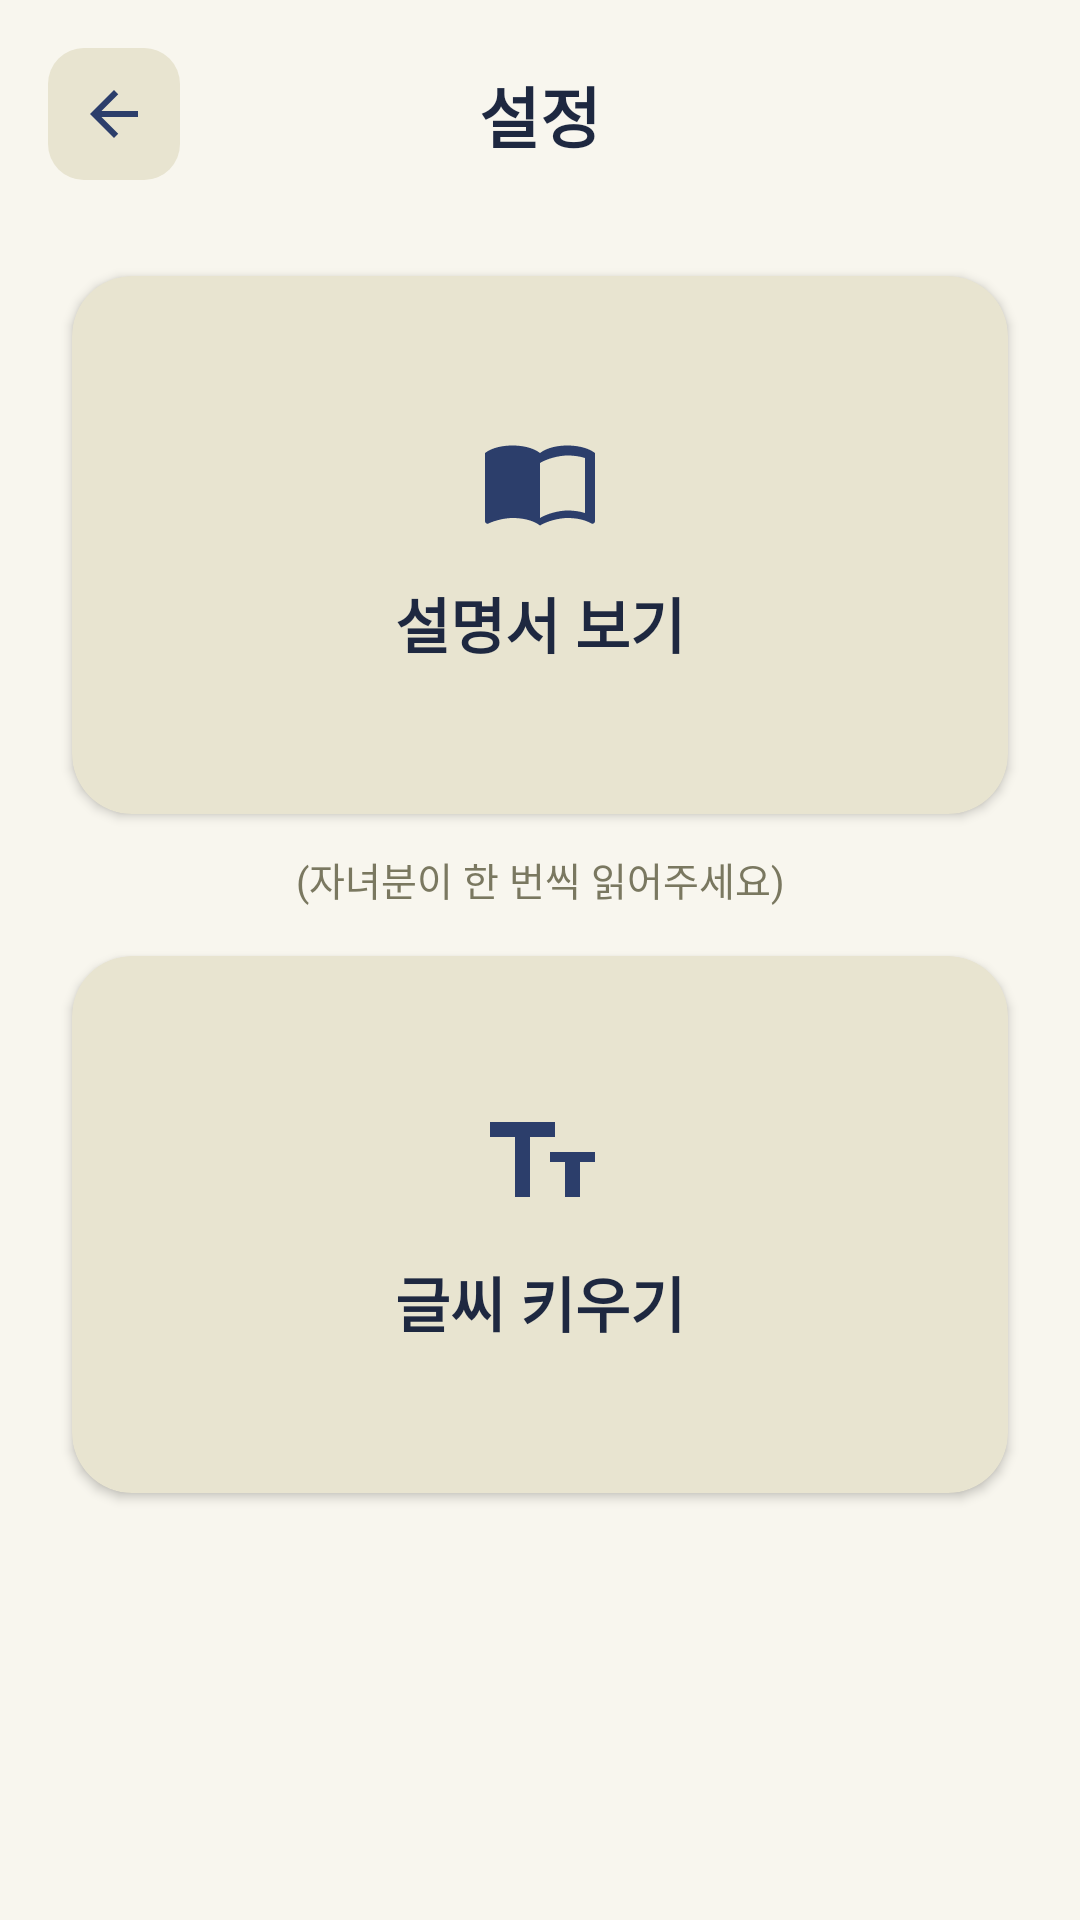

Icon click points for this 1080px×1920px phone screenshot, format (x=x, y=y):
글씨 크기: (x=542, y=1159)
뒤로가기: (x=114, y=114)
